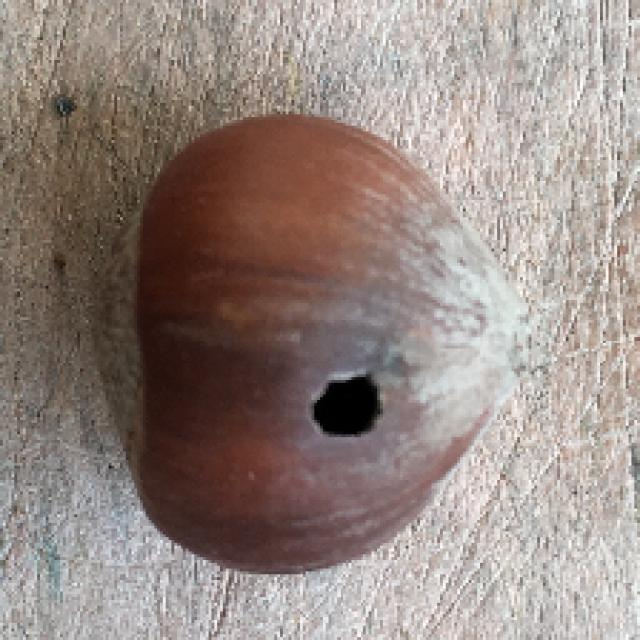damagedHazelnut: (96, 108, 532, 578)
